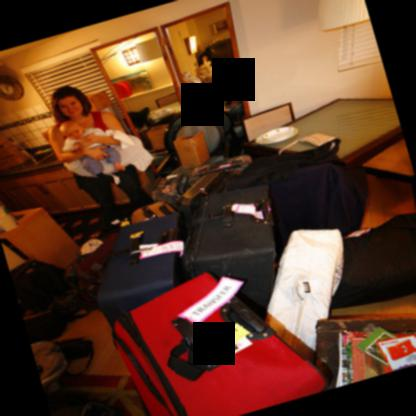backpack: (10, 259, 72, 315), (45, 387, 123, 416)
suitcase: (111, 270, 331, 416), (262, 227, 344, 363), (196, 181, 284, 307), (152, 155, 248, 221), (96, 251, 193, 305), (131, 201, 181, 224)
